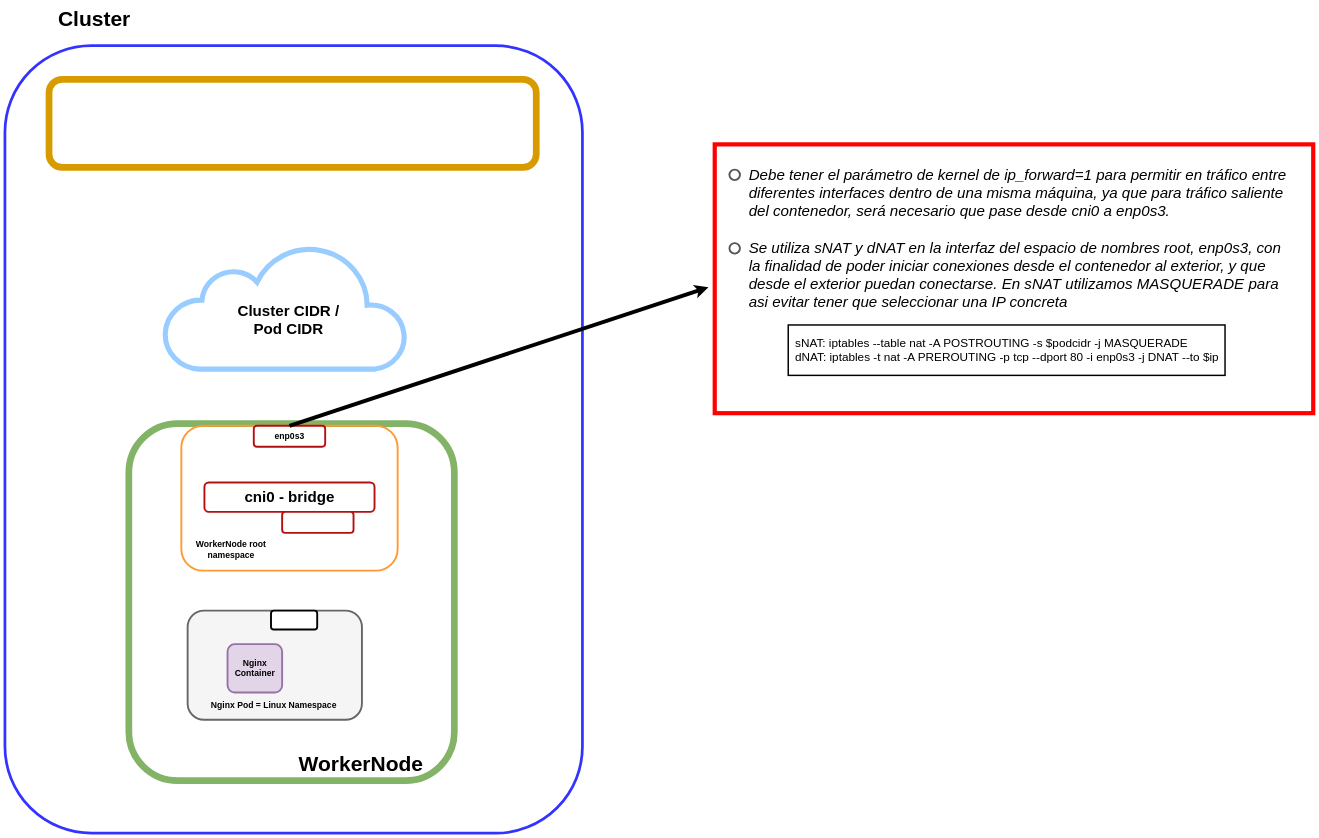
The diagram is 1319 pixels wide and 838 high, and some of its shapes have lost their labels. The centre of each missing label's shape, as x and y in pixels:
"Control Plane Node with NoSchedule taint" belongs at point (292, 123).
"eth0" belongs at point (294, 620).
"veth1" belongs at point (317, 522).
